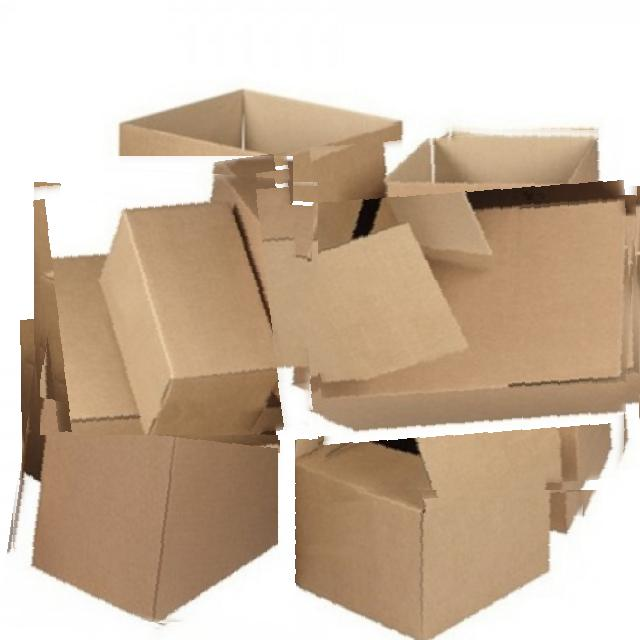biodegradable: (278, 264, 598, 640), (318, 122, 640, 490), (10, 311, 318, 636), (40, 161, 314, 435)
